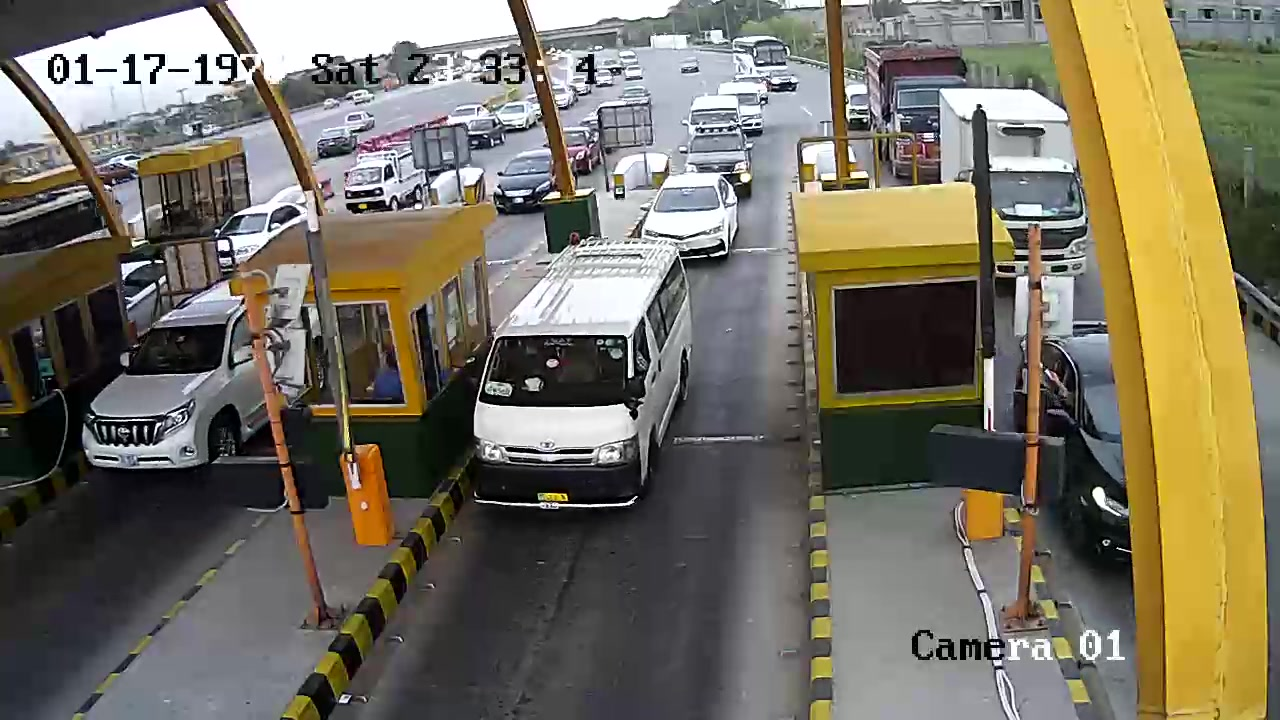F3: (470, 235, 695, 514)
